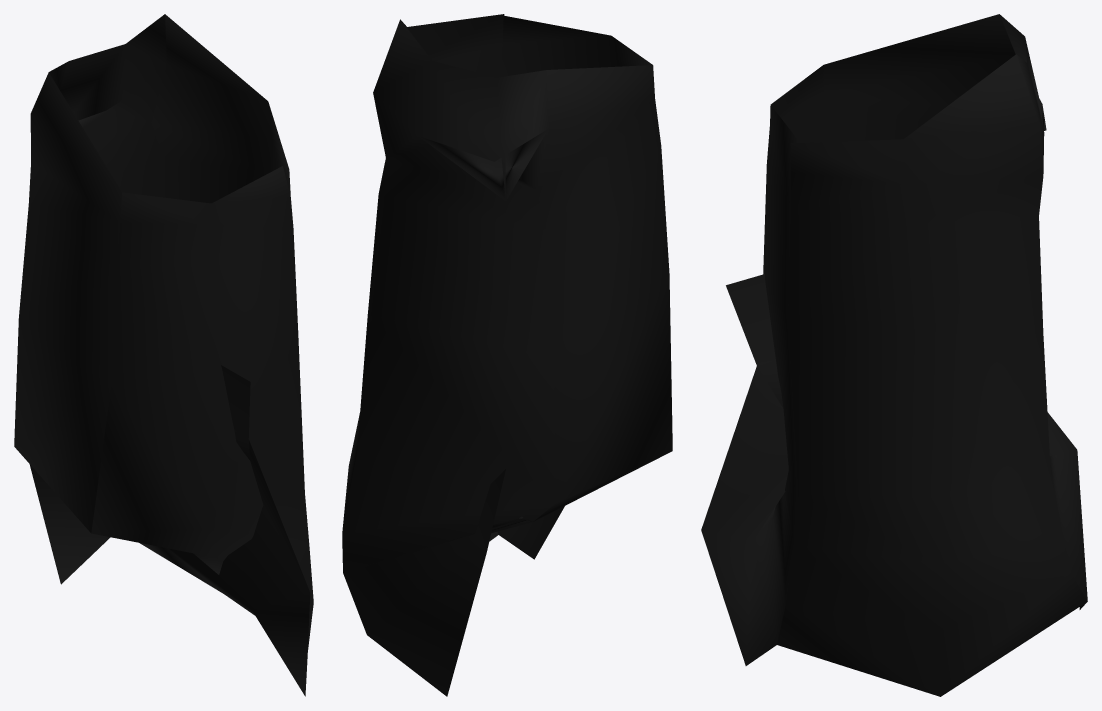
Rendered from right_arm.glb.
3 views of the same model, side by side, from view 1: azimuth 30°, elevation 25°; view 2: azimuth 150°, elevation 25°; view 3: azimuth 270°, elevation 25° (orthographic). The views are drawn at different scales.
Visible parts, largest first — view 1: sweater-black_RIGHT_ARM; view 2: sweater-black_RIGHT_ARM; view 3: sweater-black_RIGHT_ARM.
Boxes of the visible parts, x1=… form: sweater-black_RIGHT_ARM: x1=14, y1=14, x2=313, y2=696; sweater-black_RIGHT_ARM: x1=342, y1=14, x2=672, y2=696; sweater-black_RIGHT_ARM: x1=701, y1=14, x2=1087, y2=696.
Bounding box in the file's own units: 0.1397 × 0.3241 × 0.1854.
1 material, 1 textured.
